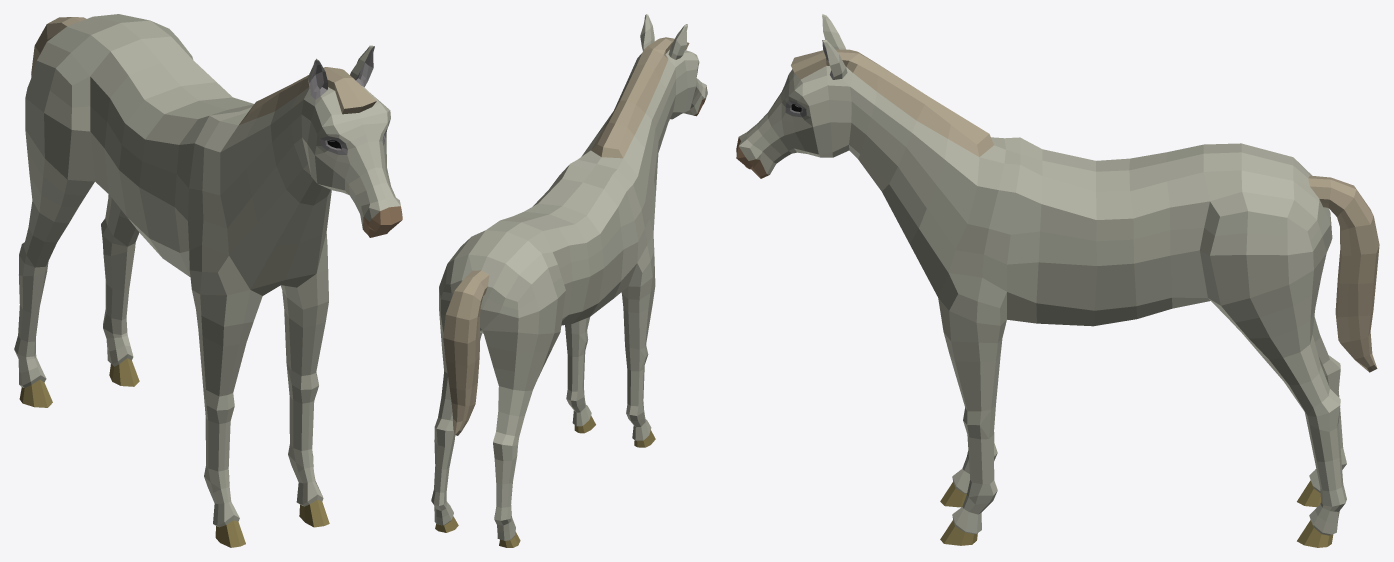
File: horse-white.glb
3 renders of one model, left to right at view 1: azimuth 30°, elevation 25°; view 2: azimuth 150°, elevation 25°; view 3: azimuth 270°, elevation 25°, orthographic. The views are drawn at different scales.
Visible parts, largest first — view 1: Horse; view 2: Horse; view 3: Horse.
Boxes of the visible parts, x1,y1,x2,y2 form: Horse: (14,14,402,547); Horse: (431,14,707,547); Horse: (736,14,1379,547).
Size of the model in its own units: 1.41 by 4.82 by 5.68.
